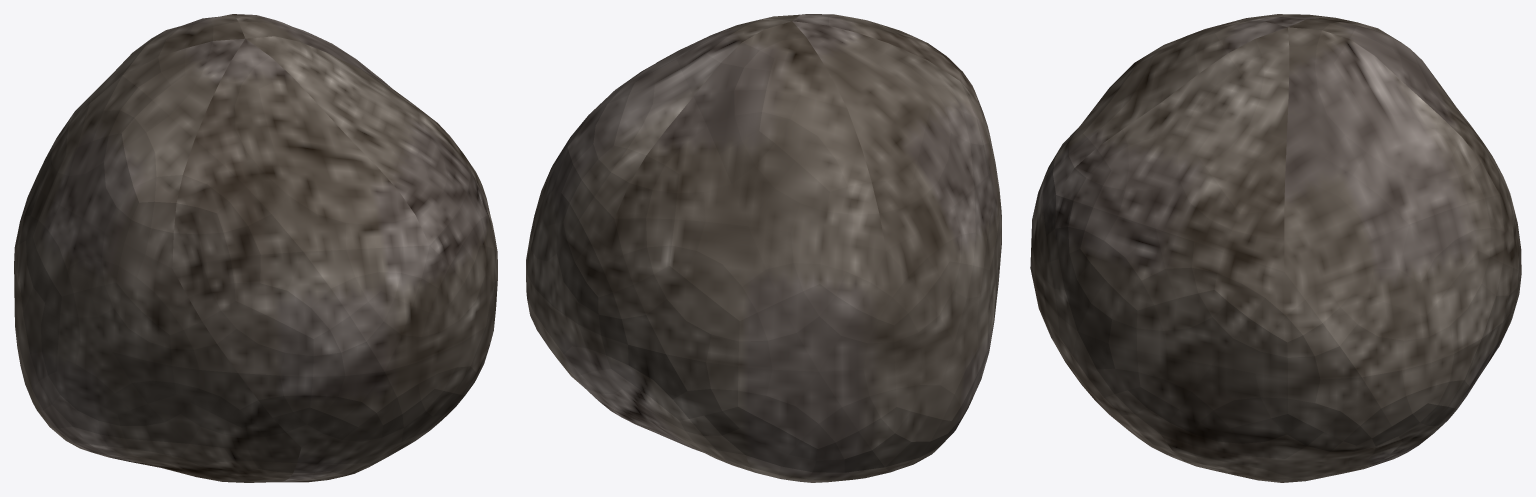
The model's file is Rock.fbx.
The picture shows the model from 3 angles, left to right: view 1: azimuth 30°, elevation 25°; view 2: azimuth 150°, elevation 25°; view 3: azimuth 270°, elevation 25°; orthographic projection.
Parts seen in each view (by area): view 1: Icosphere; view 2: Icosphere; view 3: Icosphere.
Boxes of the visible parts, x1,y1,x2,y2 form: Icosphere: (14, 14, 497, 482); Icosphere: (526, 14, 1001, 482); Icosphere: (1030, 14, 1521, 482).
Size of the model in its own units: 226 by 220 by 232.
